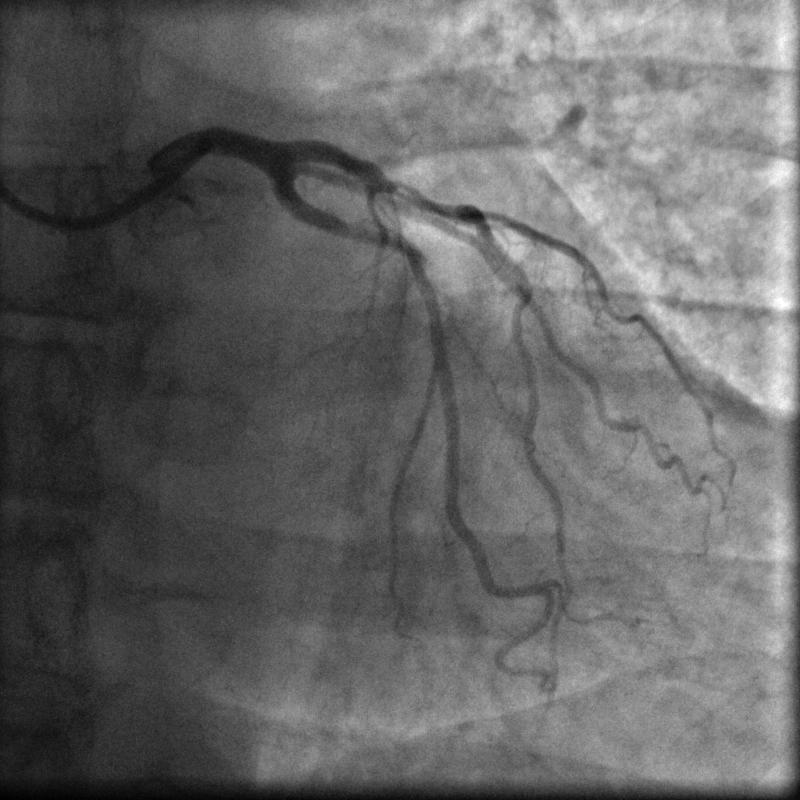Stenosis: (383, 181, 471, 222)
